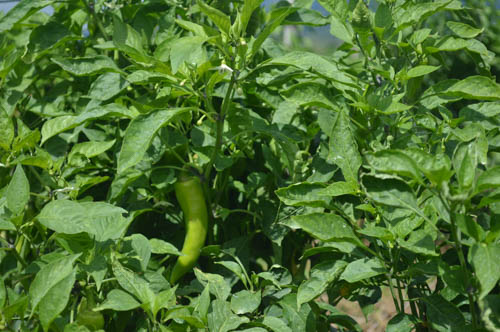ChiliPepper: (168, 183, 207, 290)
